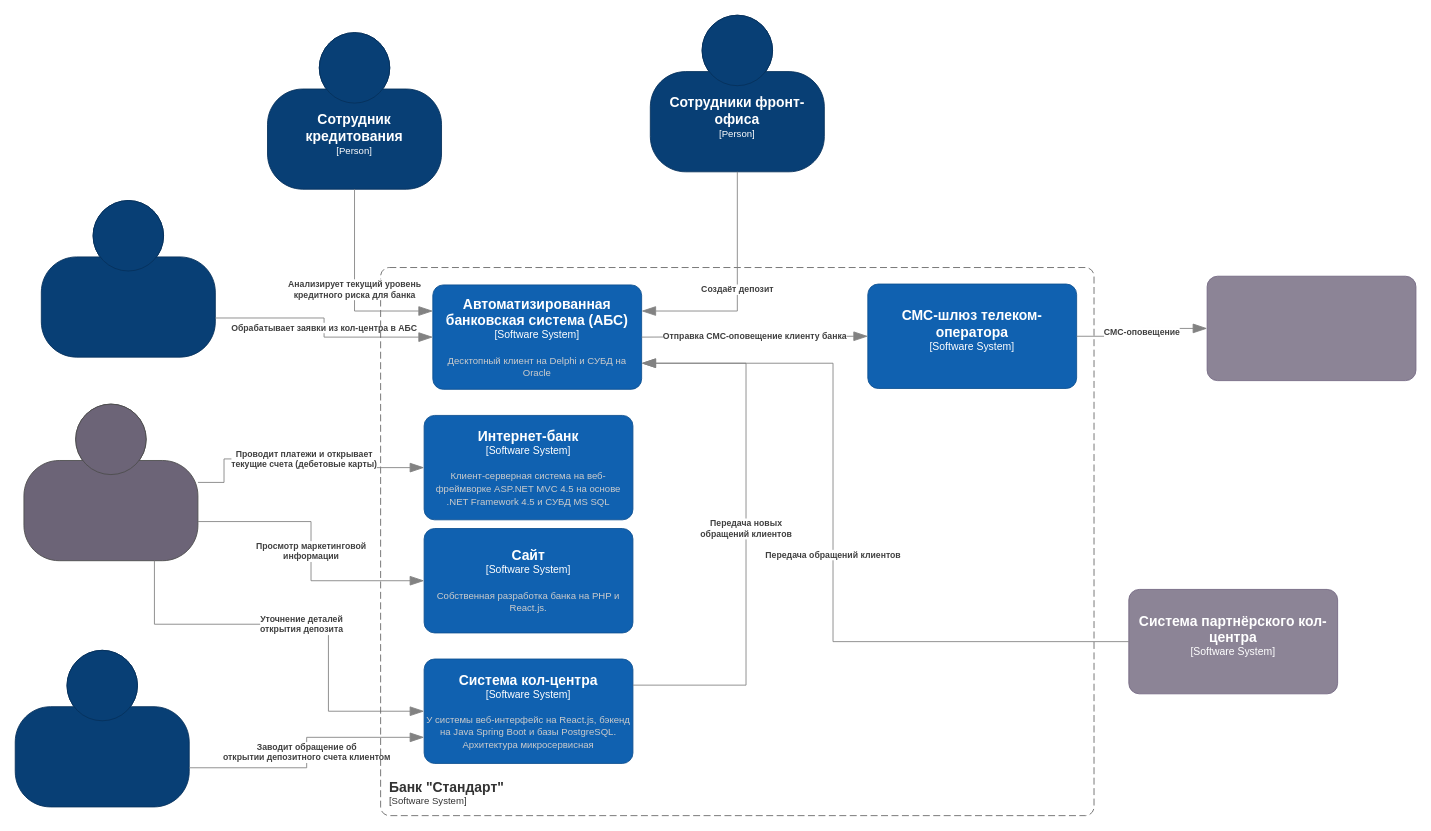
Image size: 1431x831. Some labels were removed from this diagram. The shapes that lost their labels are listed below. From the top down, each one's centre as x and y in pixels, then its label:
At [127,278]: "Сотрудники бэк-офиса [Person]".
At [1311,328]: "Телеком-оператор [Software System]".
At [110,482]: "Клиент банка [Person]".
At [101,728]: "Сотрудник кол-центра [Person]".
